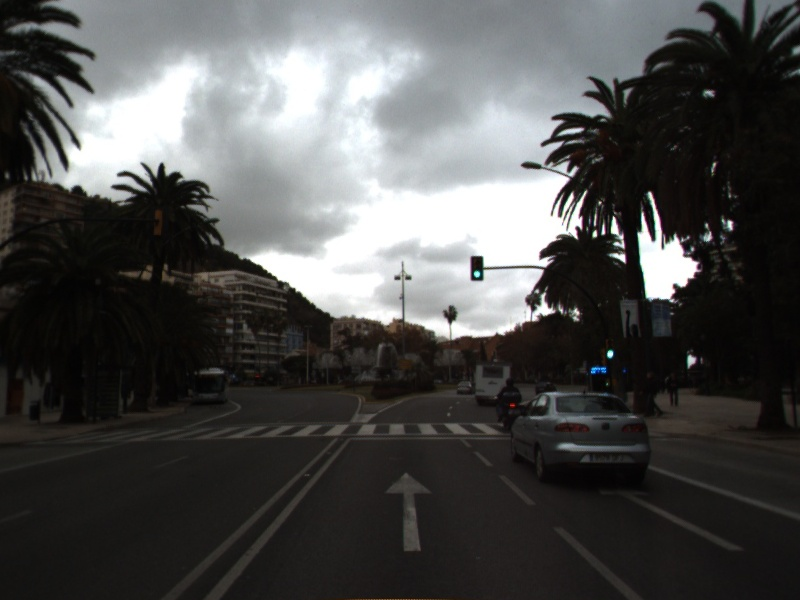STRAIGHT: (597, 481, 746, 553), (382, 470, 434, 554)
